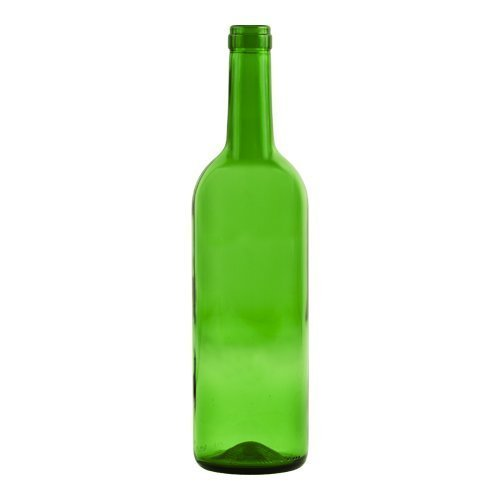glass: (191, 23, 311, 474)
